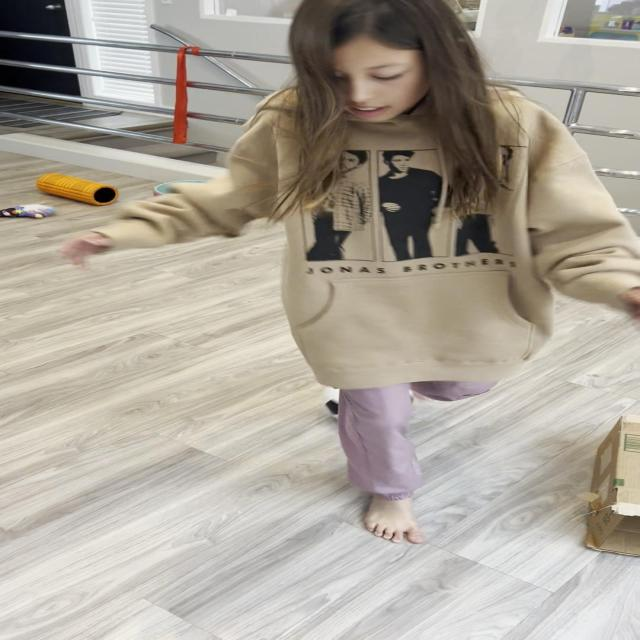Soccer Ball: (318, 377, 416, 426)
